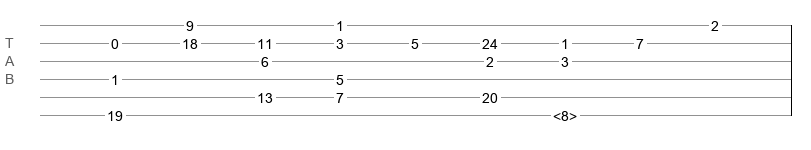0: (111, 36, 119, 46)
1: (111, 72, 119, 82), (336, 18, 344, 28), (561, 36, 569, 46)
11: (257, 36, 273, 46)
13: (257, 90, 273, 100)
18: (182, 36, 198, 46)
19: (107, 108, 123, 118)
2: (486, 54, 494, 64), (711, 18, 719, 28)
20: (482, 90, 498, 100)
24: (482, 36, 498, 46)
3: (336, 36, 344, 46), (561, 54, 569, 64)
5: (336, 72, 344, 82), (411, 36, 419, 46)
6: (261, 54, 269, 64)
7: (336, 90, 344, 100), (636, 36, 644, 46)
9: (186, 18, 194, 28)
harmonic: (553, 108, 577, 118)
